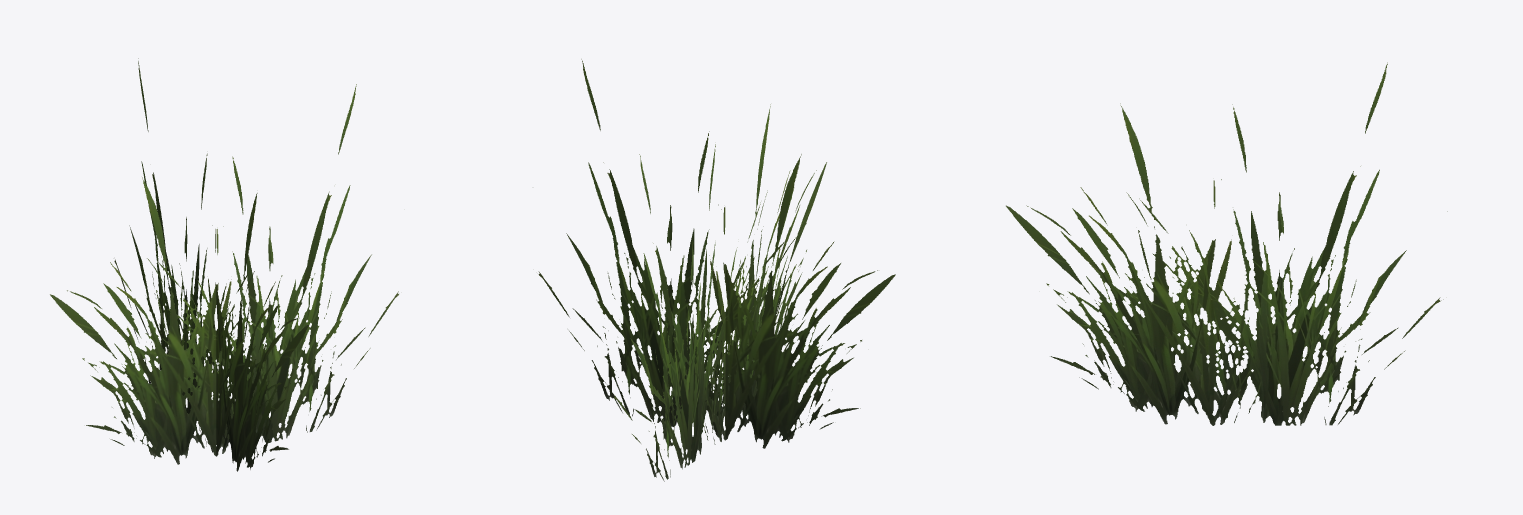
File: Grass.fbx
3 views of the same model, side by side, from view 1: azimuth 30°, elevation 25°; view 2: azimuth 150°, elevation 25°; view 3: azimuth 270°, elevation 25° (orthographic). The views are drawn at different scales.
Parts seen in each view (by area): view 1: Empty.008; view 2: Empty.008; view 3: Empty.008.
Boxes of the visible parts, <box> form: Empty.008: <box>50,58,398,471</box>; Empty.008: <box>538,59,895,481</box>; Empty.008: <box>1006,62,1447,425</box>.
Bounding box in the file's own units: 92.57 × 76.87 × 92.55.
